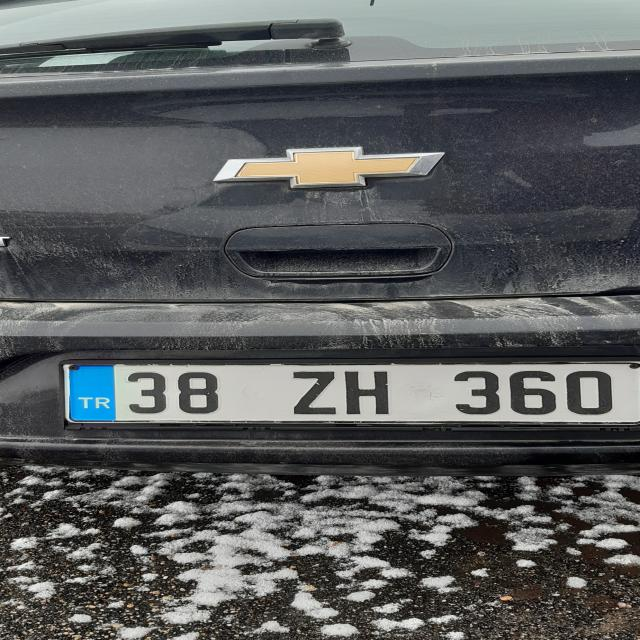plate: (62, 362, 640, 423)
